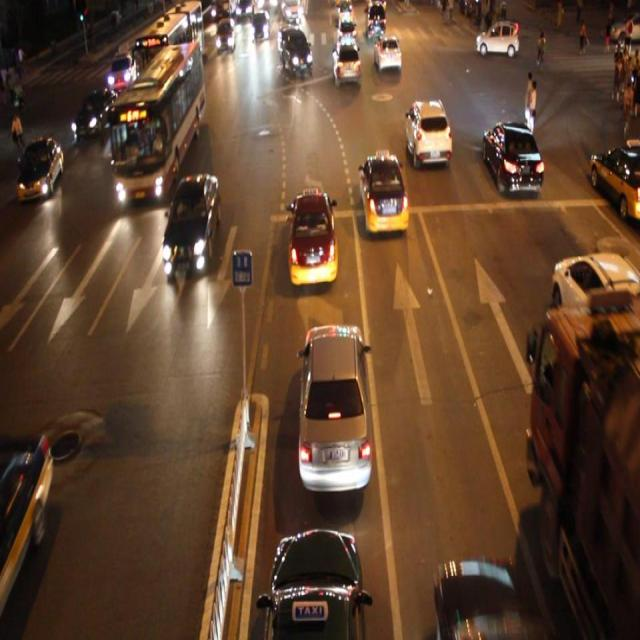bus: (527, 307, 640, 640)
car: (297, 319, 373, 495), (260, 526, 367, 640), (549, 250, 640, 358), (1, 432, 53, 617), (432, 559, 543, 640), (161, 174, 220, 270), (287, 188, 339, 284), (480, 119, 542, 194), (357, 152, 410, 235), (405, 96, 451, 166), (16, 137, 64, 200), (70, 86, 118, 142), (280, 28, 314, 75), (333, 35, 362, 88), (107, 50, 140, 96), (374, 34, 402, 74)
van: (111, 46, 201, 203)
